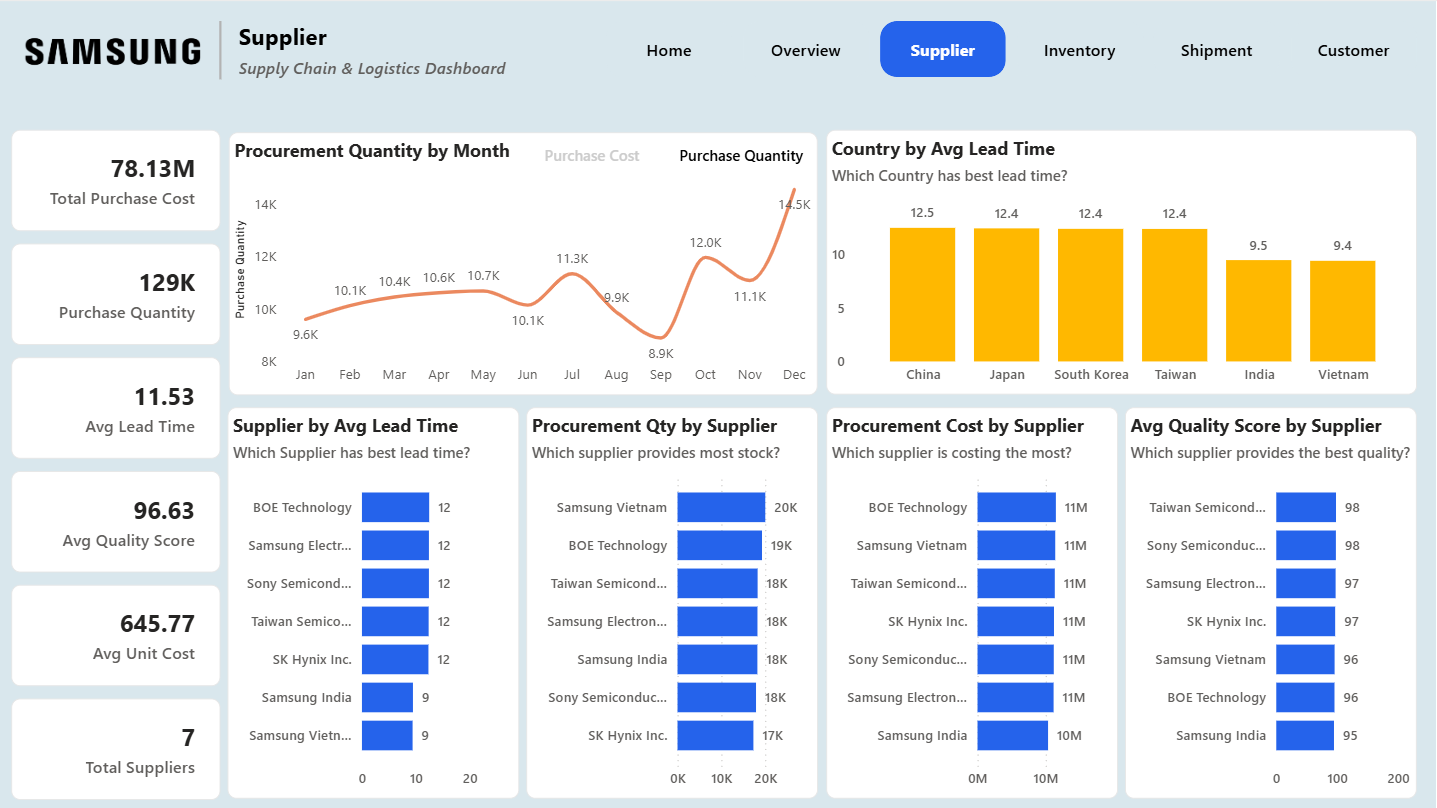

The dashboard page shown, as its layout file describes it:
{"tool":"powerbi","page":{"name":"Supplier","canvas":[1280,720],"ordinal":2},"visuals":[{"type":"shape","title":"Supplier","box":[212.5,17.5,240,52.5],"z":0},{"type":"shape","box":[182.1,17.9,27.4,52.4],"z":1000},{"type":"image","box":[9.5,17.9,173.8,53.6],"z":2000},{"type":"cardVisual","fields":{"Data":["_Measures.Total Procurement Quantity"]},"box":[10,216.2,186.2,90],"z":3000},{"type":"cardVisual","fields":{"Data":["_Measures.Avg Lead Time"]},"box":[10,317.5,186.2,90],"z":4000},{"type":"cardVisual","fields":{"Data":["dim_supplier.Avg Quality Score"]},"box":[10,418.8,186.2,90],"z":5000},{"type":"cardVisual","fields":{"Data":["fact_procurement.Avg Unit Cost"]},"box":[10,520,186.2,90],"z":6000},{"type":"cardVisual","fields":{"Data":["CountNonNull(dim_supplier.supplier_id)"]},"box":[10,621.2,186.2,90],"z":7000},{"type":"cardVisual","fields":{"Data":["dim_supplier.Total Procurement Cost"]},"box":[10,115,186.2,90],"z":8000},{"type":"clusteredBarChart","title":"Supplier by Avg Lead Time","fields":{"Category":["dim_supplier.supplier_name"],"Y":["_Measures.Avg Lead Time"]},"box":[202.5,361.9,260,348.8],"z":9000},{"type":"clusteredBarChart","title":"Procurement Qty by Supplier","fields":{"Category":["dim_supplier.supplier_name"],"Y":["_Measures.Total Procurement Quantity"]},"box":[469.2,362.5,260,348.8],"z":10000},{"type":"clusteredBarChart","title":"Procurement Cost by Supplier","fields":{"Category":["dim_supplier.supplier_name"],"Y":["fact_procurement.Total Procurement Cost"]},"box":[735.8,362.5,260,348.8],"z":11000},{"type":"clusteredColumnChart","title":"Country by Avg Lead Time","fields":{"Category":["dim_supplier.country"],"Y":["_Measures.Avg Lead Time"]},"box":[736.2,115,526.2,236.2],"z":12000},{"type":"group","id":"g1","title":"Group 1","box":[203.8,115,525,236.2],"z":13000},{"type":"lineChart","fields":{"Category":["dim_date.Month_Short"],"Y":["fact_procurement.Total Procurement Cost"]},"box":[203.8,116.8,525,234.4],"z":13000,"group":"g1"},{"type":"clusteredBarChart","title":"Avg Quality Score by Supplier","fields":{"Category":["dim_supplier.supplier_name"],"Y":["fact_procurement.Avg Quality Score"]},"box":[1002.5,362.5,260,348.8],"z":14000},{"type":"pageNavigator","box":[540,17.5,723.8,50],"z":14001},{"type":"advancedSlicerVisual","fields":{"Values":["Cost_QTY_Supplier.Cost_QTY_Supplier"]},"box":[459.7,115,268.2,45],"z":15000,"group":"g1"}]}

Visuals, with their boxes in screenshot pixels (x1, y1, x2, y2), scaled from the page's 1280x720 canvas onto the 1437x808 screenshot:
"Supplier" shape: detection(239, 20, 508, 79)
shape: detection(204, 20, 235, 79)
image: detection(11, 20, 206, 80)
cardVisual - _Measures.Total Procurement Quantity: detection(11, 243, 220, 344)
cardVisual - _Measures.Avg Lead Time: detection(11, 356, 220, 457)
cardVisual - dim_supplier.Avg Quality Score: detection(11, 470, 220, 571)
cardVisual - fact_procurement.Avg Unit Cost: detection(11, 584, 220, 685)
cardVisual - CountNonNull(dim_supplier.supplier_id): detection(11, 697, 220, 798)
cardVisual - dim_supplier.Total Procurement Cost: detection(11, 129, 220, 230)
"Supplier by Avg Lead Time" clusteredBarChart: detection(227, 406, 519, 798)
"Procurement Qty by Supplier" clusteredBarChart: detection(527, 407, 819, 798)
"Procurement Cost by Supplier" clusteredBarChart: detection(826, 407, 1118, 798)
"Country by Avg Lead Time" clusteredColumnChart: detection(826, 129, 1417, 394)
"Group 1" group: detection(229, 129, 818, 394)
lineChart - dim_date.Month_Short x fact_procurement.Total Procurement Cost: detection(229, 131, 818, 394)
"Avg Quality Score by Supplier" clusteredBarChart: detection(1125, 407, 1417, 798)
pageNavigator: detection(606, 20, 1419, 76)
advancedSlicerVisual - Cost_QTY_Supplier.Cost_QTY_Supplier: detection(516, 129, 817, 180)
